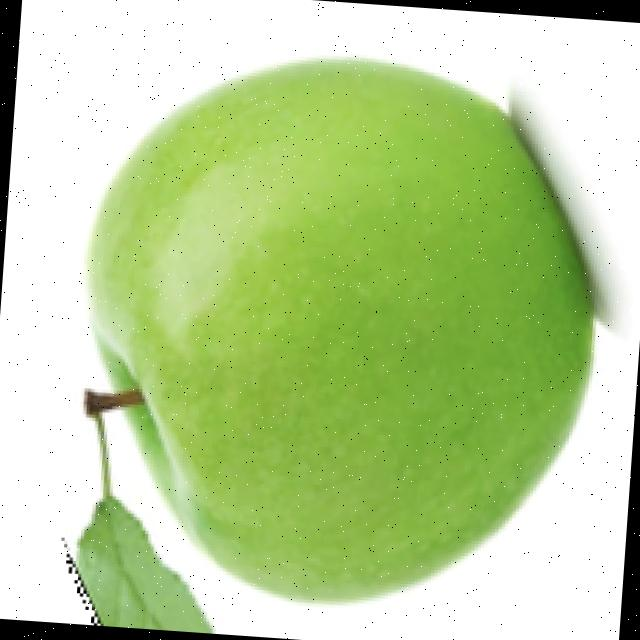apple: (76, 52, 632, 610)
